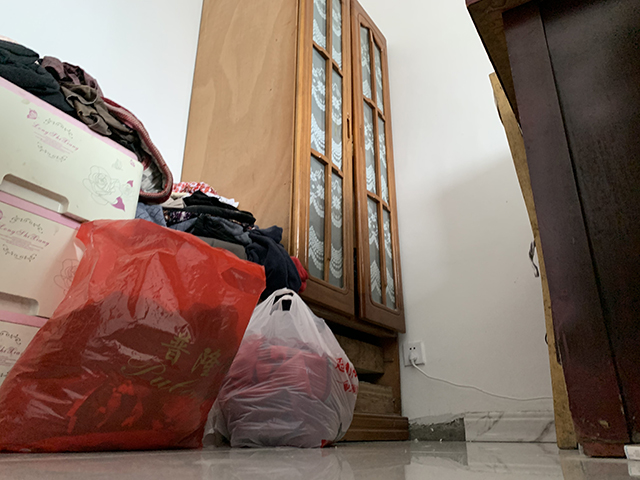cabinet: (179, 1, 412, 444)
wire: (404, 348, 548, 406)
